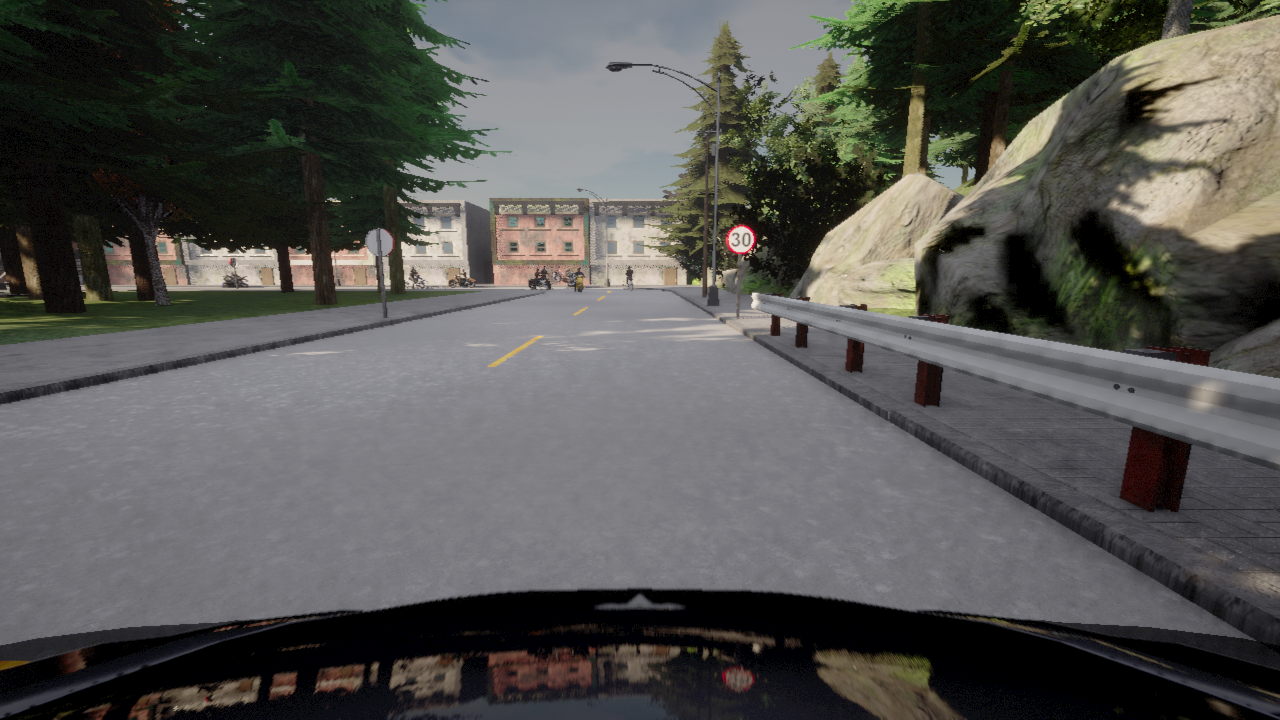cyclist: (0, 588, 1279, 719), (448, 274, 475, 287), (528, 274, 550, 289), (222, 275, 248, 287), (573, 273, 585, 291), (406, 277, 425, 287), (405, 279, 428, 286), (565, 269, 574, 286), (551, 266, 559, 282), (540, 275, 550, 287), (625, 279, 632, 287)
